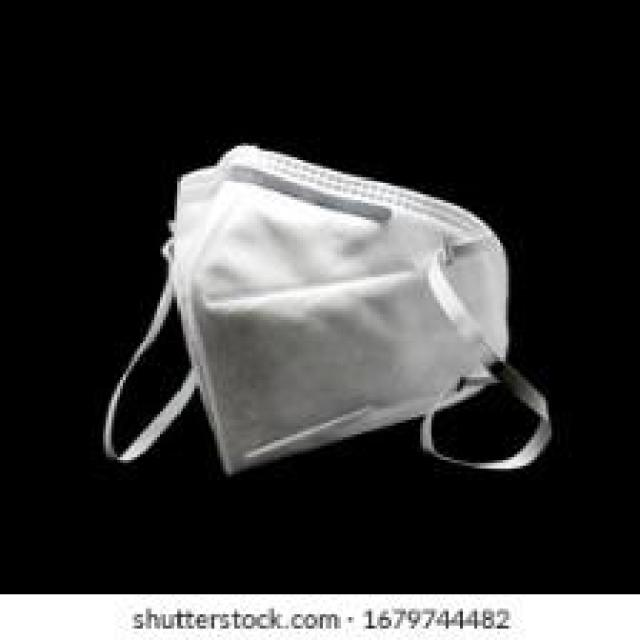Mask: (102, 133, 576, 519)
